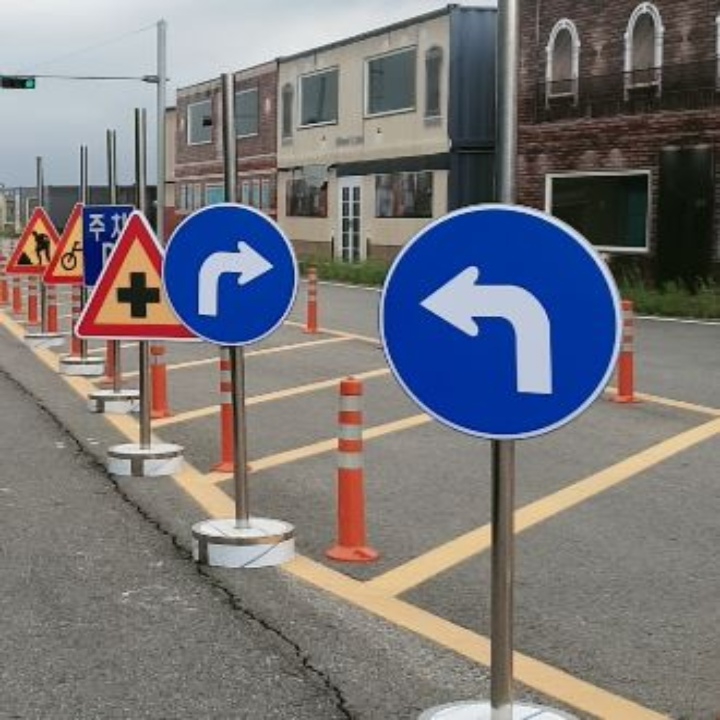const: (13, 226, 59, 268)
inter: (106, 267, 170, 325)
left: (407, 247, 585, 415)
